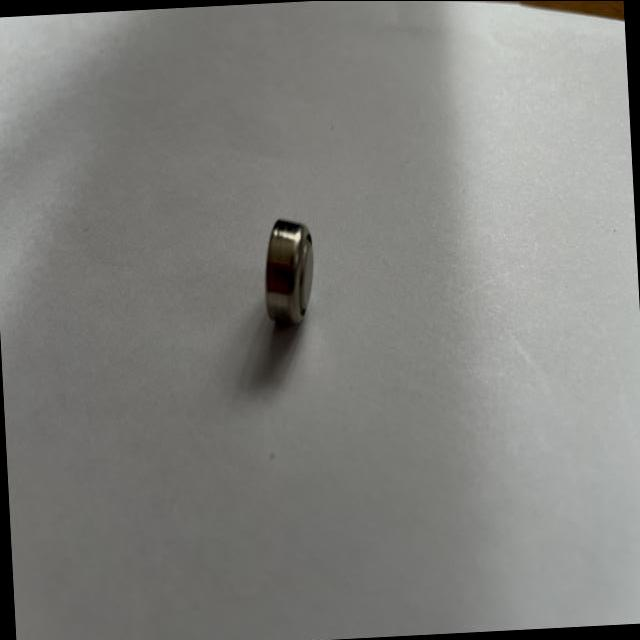COIN: (258, 214, 320, 330)
